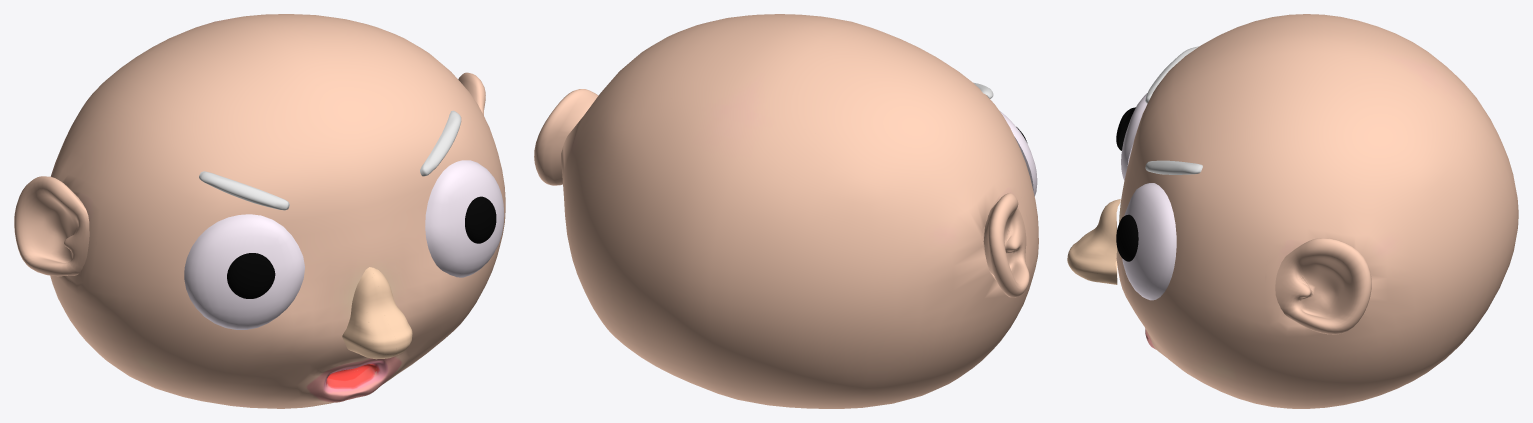
File: round-man-final-final-psd.fbx
3 views of the same model, side by side, from view 1: azimuth 30°, elevation 25°; view 2: azimuth 150°, elevation 25°; view 3: azimuth 270°, elevation 25° (orthographic). The views are drawn at different scales.
Visible parts, largest first — view 1: Head, Eye(Eyeball), Nose, Eye(Pupil), Eyebrows; view 2: Head, Eye(Eyeball); view 3: Head, Eye(Eyeball), Nose, Eye(Pupil), Eyebrows.
Boxes of the visible parts, <box> form: Head: <box>14,14,505,408</box>; Eye(Eyeball): <box>184,160,504,329</box>; Nose: <box>342,267,412,359</box>; Eye(Pupil): <box>227,196,496,298</box>; Eyebrows: <box>199,110,461,210</box>; Head: <box>534,14,1038,408</box>; Eye(Eyeball): <box>1000,111,1037,196</box>; Head: <box>1116,14,1518,408</box>; Eye(Eyeball): <box>1121,93,1176,300</box>; Nose: <box>1067,199,1120,284</box>; Eye(Pupil): <box>1116,107,1138,261</box>; Eyebrows: <box>1145,46,1202,174</box>.
Size of the model in its own units: 4.87 by 4.19 by 3.5.
2 materials, 1 textured.
